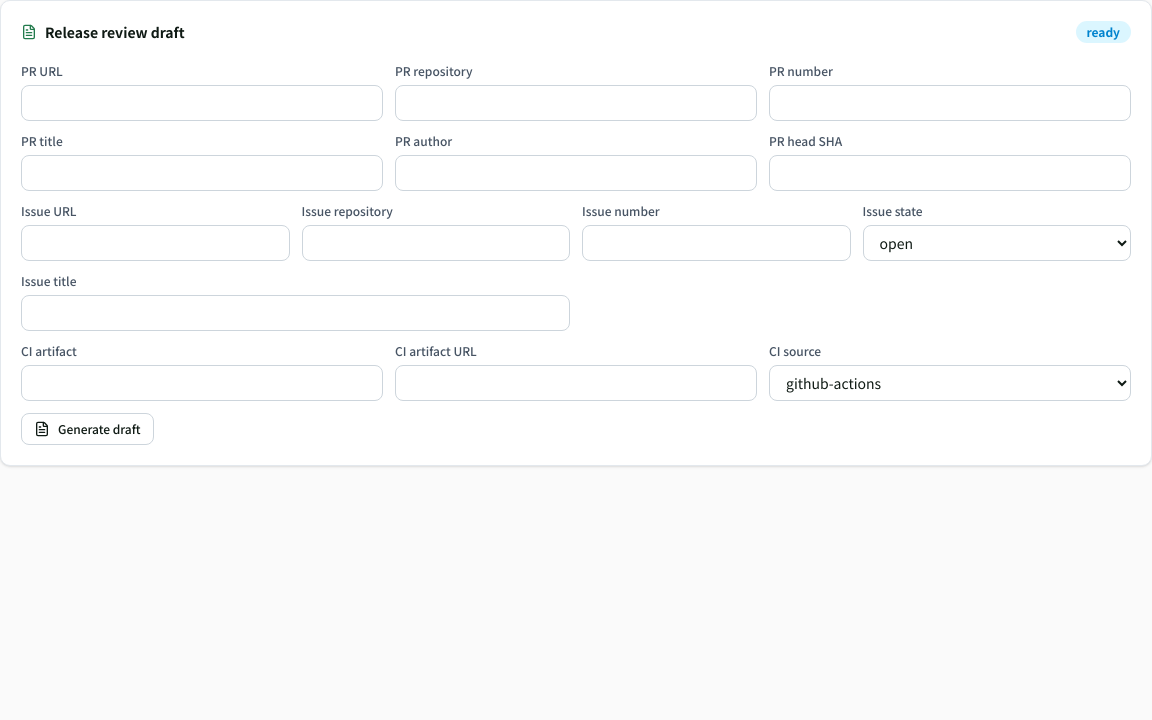
Test case: ReleaseReviewDraftPanel › generates a draft without CI import when CI artifact fields are empty
This screenshot has width=1152, height=720.
What coordinates should you click on to do the following:
click the button "Generate draft"
I would click on:
 (87, 429)
Its box is left=21, top=413, right=154, bottom=445.
(page scrolled)
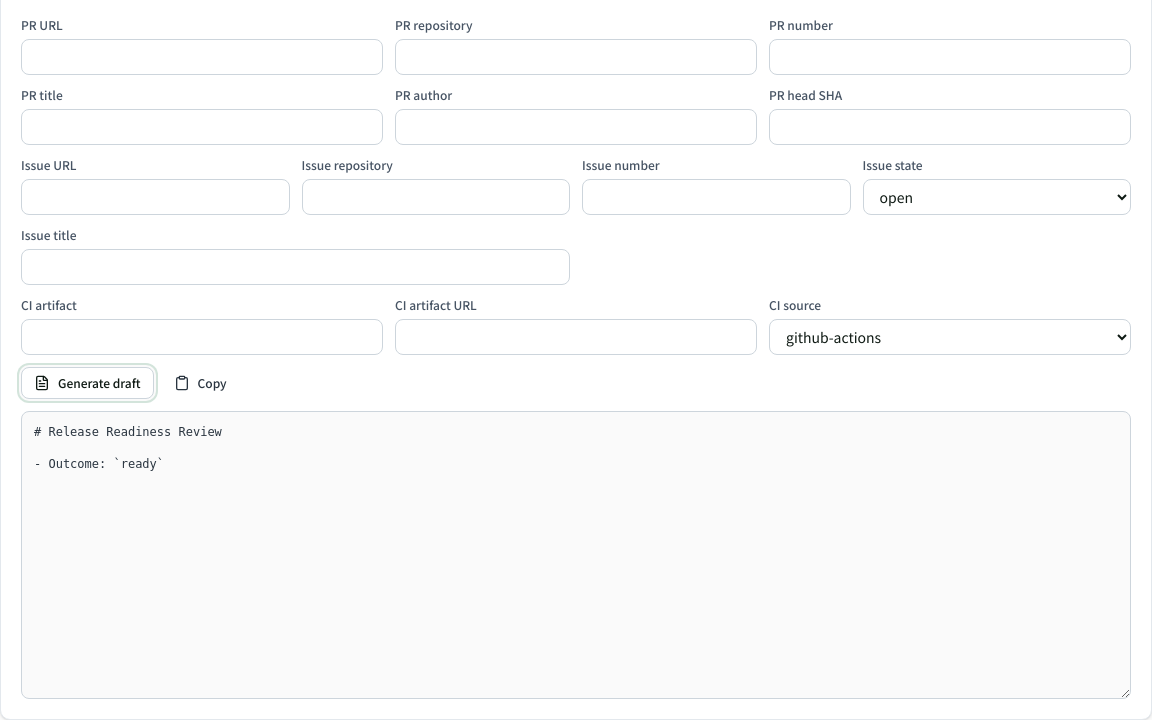
Expected: the text box named "Release review markdown" is shown, left=21, top=411, right=1131, bottom=699
